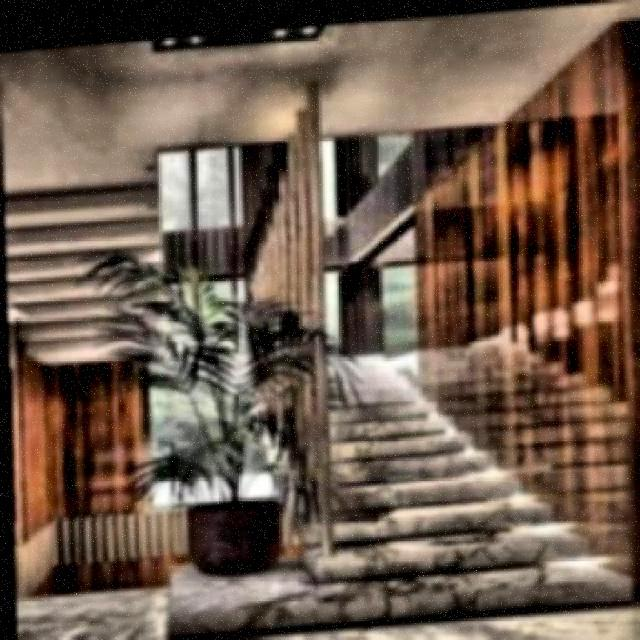stair: (308, 326, 640, 617)
